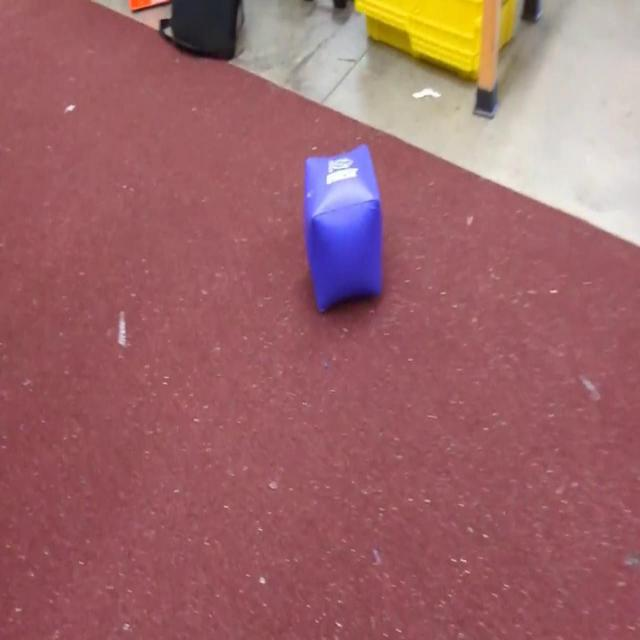frc_cube: (302, 142, 385, 318)
